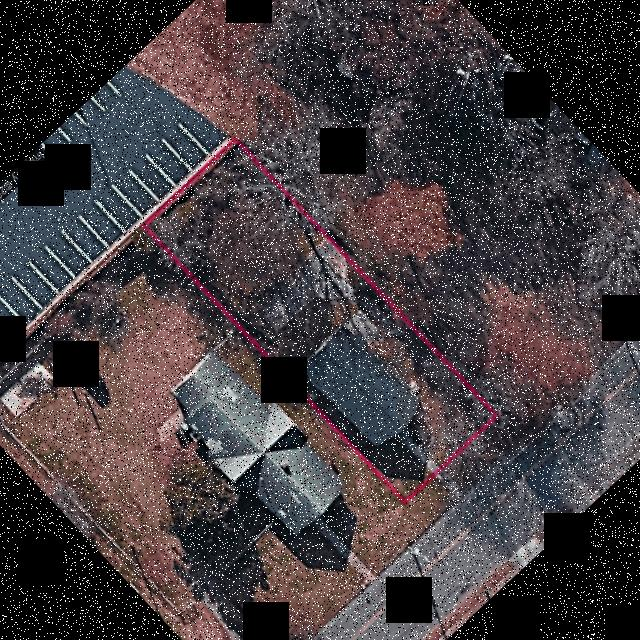Driveway: (399, 432, 425, 459), (425, 458, 437, 472)
Extra Driveway: (435, 470, 464, 500)
Extra Lawn: (444, 417, 521, 491), (403, 478, 455, 528)
House: (294, 323, 425, 449)
